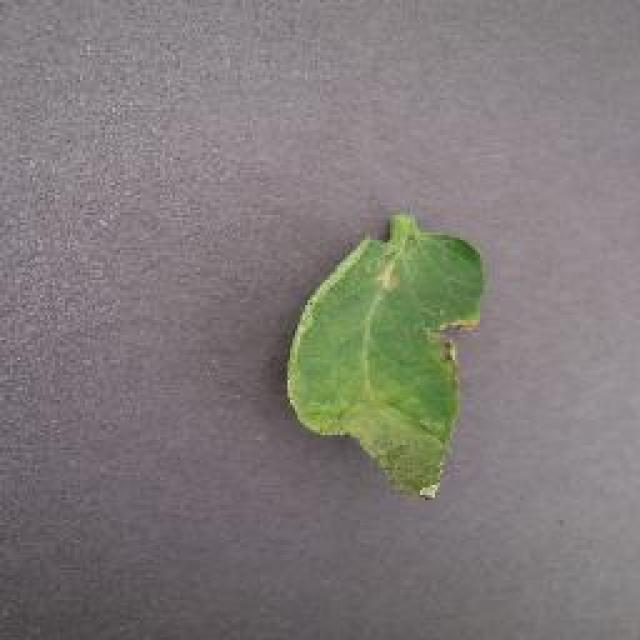Tomato Late Blight: (320, 230, 463, 522)
